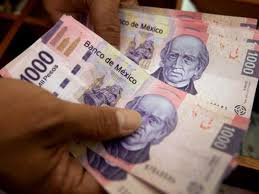billete: (1, 16, 250, 194), (120, 4, 258, 118)
